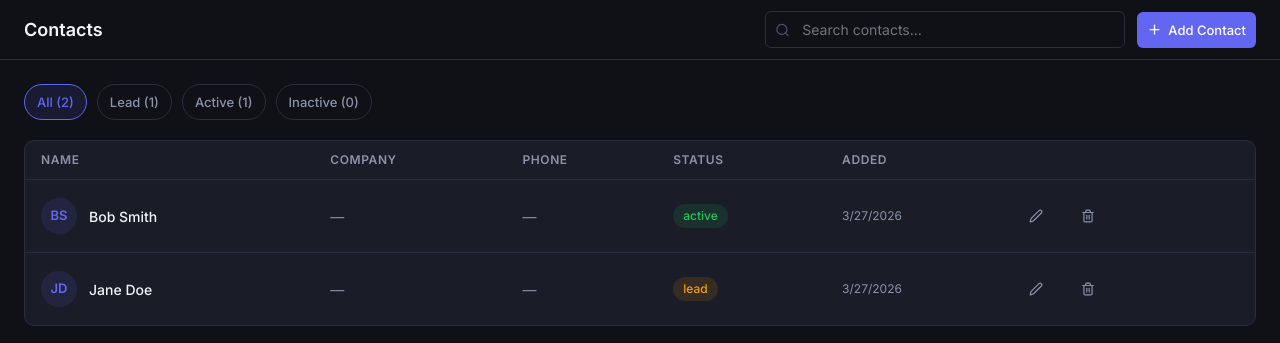
Contacts Page › filters contacts by search
The image size is (1280, 343).
Step 1. Type "jane" into the field with test id "search-input" → [945, 30], box [765, 11, 1125, 48]
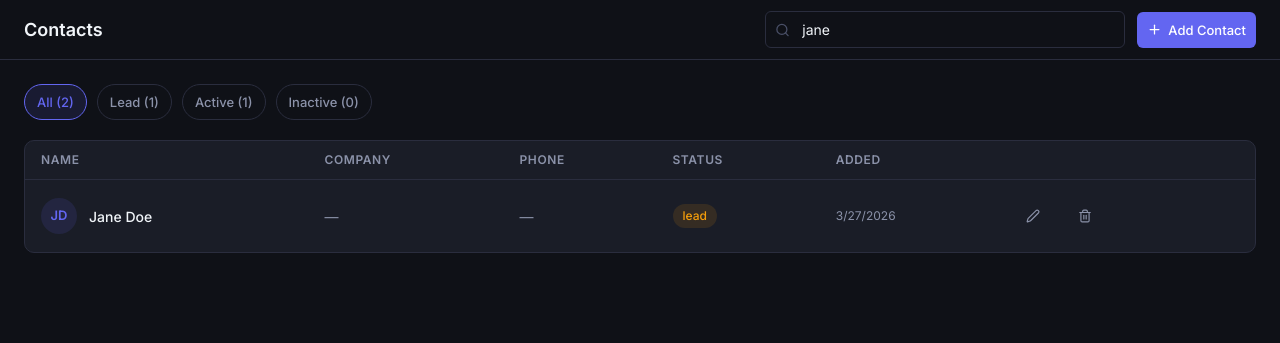
expect the text "Jane Doe" is shown: met, box [89, 206, 152, 226]
expect the number of rows with test id "contact-row" is 1: met, box [25, 180, 1255, 252]
